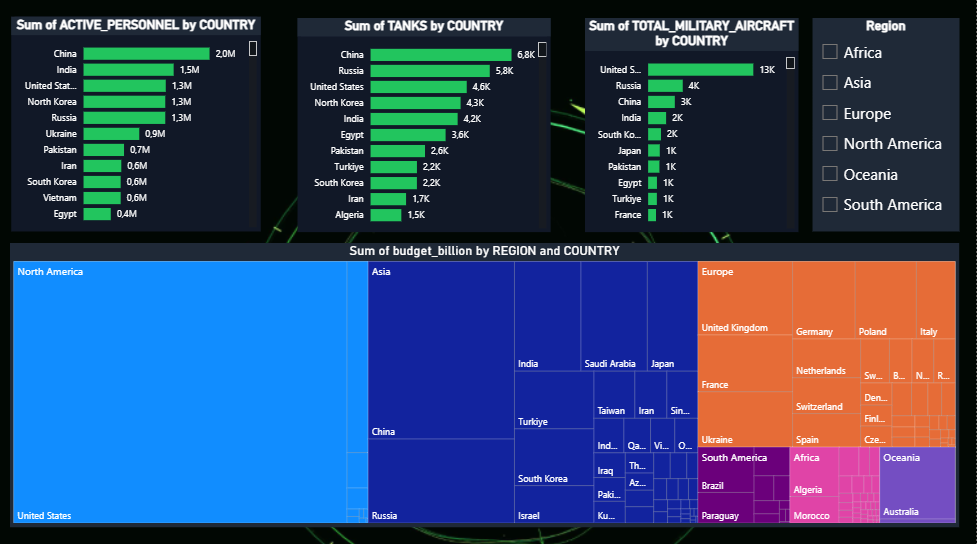

The page's visual inventory and layout, read from the dashboard file:
{"tool":"powerbi","page":{"name":" Military Power","canvas":[1280,720],"ordinal":1},"visuals":[{"type":"barChart","fields":{"Category":["MILITARY_DATA.COUNTRY"],"Y":["Sum(MILITARY_DATA.ACTIVE_PERSONNEL)"]},"box":[14.6,25,327.1,281.2],"z":0},{"type":"barChart","fields":{"Category":["MILITARY_DATA.COUNTRY"],"Y":["Sum(MILITARY_DATA.TANKS)"]},"box":[389.9,26.6,331.6,281],"z":1000},{"type":"barChart","fields":{"Category":["MILITARY_DATA.COUNTRY"],"Y":["Sum(MILITARY_DATA.TOTAL_MILITARY_AIRCRAFT)"]},"box":[767.5,26.1,279.9,281.1],"z":2000},{"type":"treemap","fields":{"Group":["MILITARY_DATA.REGION"],"Details":["MILITARY_DATA.COUNTRY"],"Values":["Sum(MILITARY_DATA.budget_billion)"]},"box":[13.8,320.7,1244.8,372.4],"z":3000},{"type":"slicer","title":"Region","fields":{"Values":["MILITARY_DATA.REGION"]},"box":[1065.8,26.6,192.4,279.7],"z":4000}]}

Visuals, with their boxes in screenshot pixels (x1, y1, x2, y2), scaled from the page's 1280x720 canvas onto the 977x544 screenshot:
barChart - MILITARY_DATA.COUNTRY x Sum(MILITARY_DATA.ACTIVE_PERSONNEL): BBox(11, 19, 261, 231)
barChart - MILITARY_DATA.COUNTRY x Sum(MILITARY_DATA.TANKS): BBox(298, 20, 551, 232)
barChart - MILITARY_DATA.COUNTRY x Sum(MILITARY_DATA.TOTAL_MILITARY_AIRCRAFT): BBox(586, 20, 799, 232)
treemap - MILITARY_DATA.REGION x MILITARY_DATA.COUNTRY: BBox(11, 242, 961, 524)
"Region" slicer: BBox(814, 20, 960, 231)
